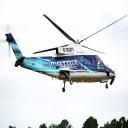helicopter: (5, 15, 128, 93)
